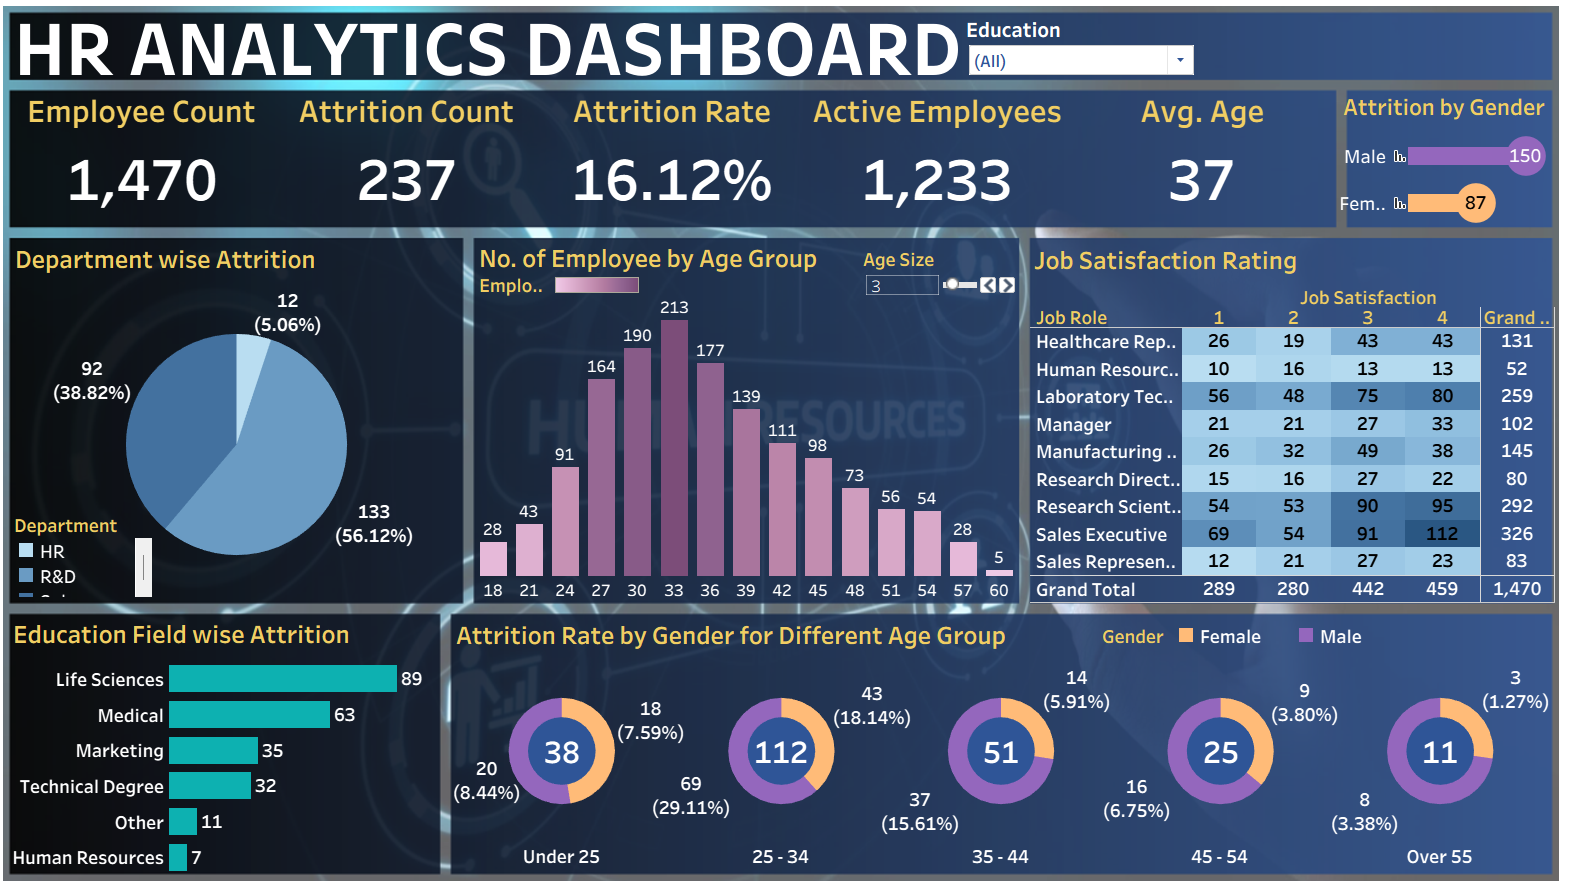

This screenshot's page, from the dashboard's own definition file:
{"tool":"tableau","page":{"name":"HR Dashboard ","canvas":[1580,900],"ordinal":0},"visuals":[{"type":"image","param":"Image/HR background.pptx.png","box":[8,8,1564,884]},{"type":"text","box":[19,19,1028,65]},{"type":"filter","title":"Department wise Attrition","param":"[federated.0f0h03p1it3gvo176rhln1y1tx4v].[none:Education:nk]","box":[975,21,231,62]},{"type":"worksheet","title":"Attrition by Gender","mark":"Automatic","rows":["Gender"],"cols":["Calculation_231935388807032832","Calculation_231935388807032832"],"box":[1345,93,216,139]},{"type":"worksheet","title":"KPI","mark":"Automatic","box":[18,96,1326,136]},{"type":"worksheet","title":"No. of Employee by Age Group","mark":"Automatic","rows":["Employee Count"],"cols":["Age (bin)"],"box":[484,243,543,365]},{"type":"worksheet","title":"Department wise Attrition","mark":"Pie","box":[20,244,451,365]},{"type":"worksheet","title":"Job Satisfaction Rating","mark":"Square","rows":["Job Role"],"cols":["Job Satisfaction"],"box":[1039,245,525,364]},{"type":"parameter","param":"[Parameters].[Age Parameter]","box":[872,252,155,49]},{"type":"legend","title":"No. of Employee by Age Group","param":"[federated.0f0h03p1it3gvo176rhln1y1tx4v].[sum:Employee Count:qk]","box":[488,279,164,24]},{"type":"legend","title":"Department wise Attrition","param":"[federated.0f0h03p1it3gvo176rhln1y1tx4v].[none:Department:nk]","box":[23,518,140,85]},{"type":"worksheet","title":"Education Field wise Attrition","mark":"Automatic","rows":["Education Field"],"cols":["Calculation_231935388807032832"],"box":[18,619,431,262]},{"type":"worksheet","title":"Attrition Rate by Gender for Different Age Group","mark":"Pie","rows":["Calculation_1302666200262176769","Calculation_1302666200262176769"],"cols":["CF_age band"],"box":[461,620,1098,255]},{"type":"legend","title":"Attrition Rate by Gender for Different Age Group","param":"[federated.0f0h03p1it3gvo176rhln1y1tx4v].[none:Gender:nk]","box":[1111,629,381,31]}]}

Visuals, with their boxes in screenshot pixels (x1, y1, x2, y2), scaled from the page's 1580x900 canvas onto the 1574x887 screenshot:
image: 8, 8, 1566, 879
text: 19, 19, 1043, 83
"Department wise Attrition" filter: 971, 21, 1201, 82
"Attrition by Gender" worksheet: 1340, 92, 1555, 229
"KPI" worksheet: 18, 95, 1339, 229
"No. of Employee by Age Group" worksheet: 482, 239, 1023, 599
"Department wise Attrition" worksheet (Pie marks): 20, 240, 469, 600
"Job Satisfaction Rating" worksheet (Square marks): 1035, 241, 1558, 600
parameter: 869, 248, 1023, 297
"No. of Employee by Age Group" legend: 486, 275, 650, 299
"Department wise Attrition" legend: 23, 511, 162, 594
"Education Field wise Attrition" worksheet: 18, 610, 447, 868
"Attrition Rate by Gender for Different Age Group" worksheet (Pie marks): 459, 611, 1553, 862
"Attrition Rate by Gender for Different Age Group" legend: 1107, 620, 1486, 650
